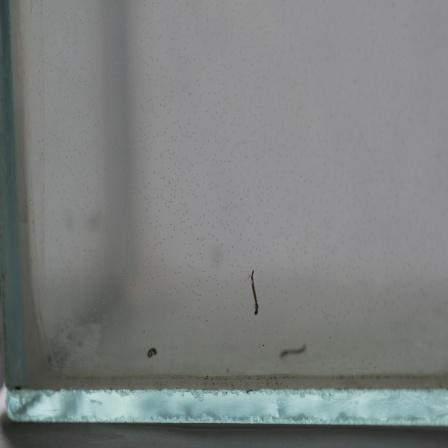Jentik-Nyamuk: (249, 268, 265, 317), (143, 343, 160, 367)
